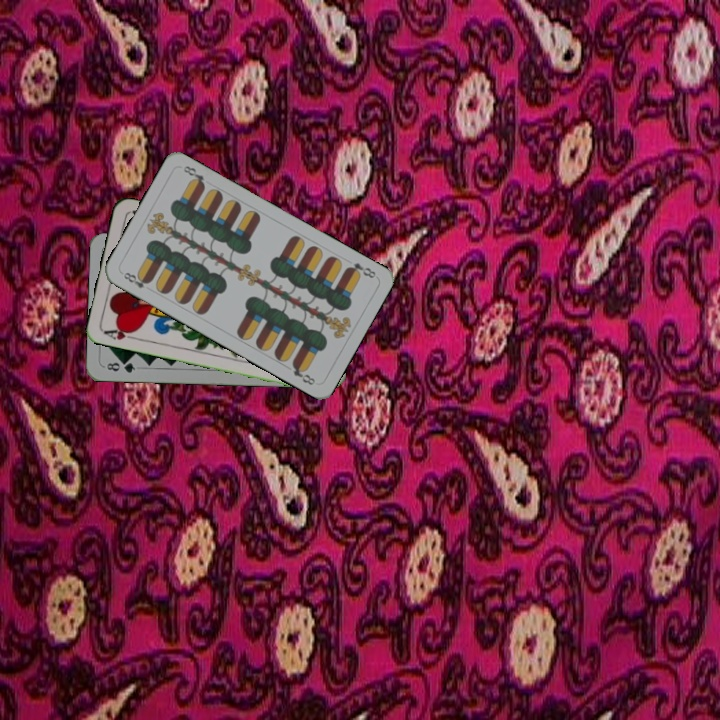E8: (342, 258, 379, 281), (119, 268, 153, 291)
G8: (103, 358, 138, 376)
HA: (100, 323, 141, 343)
